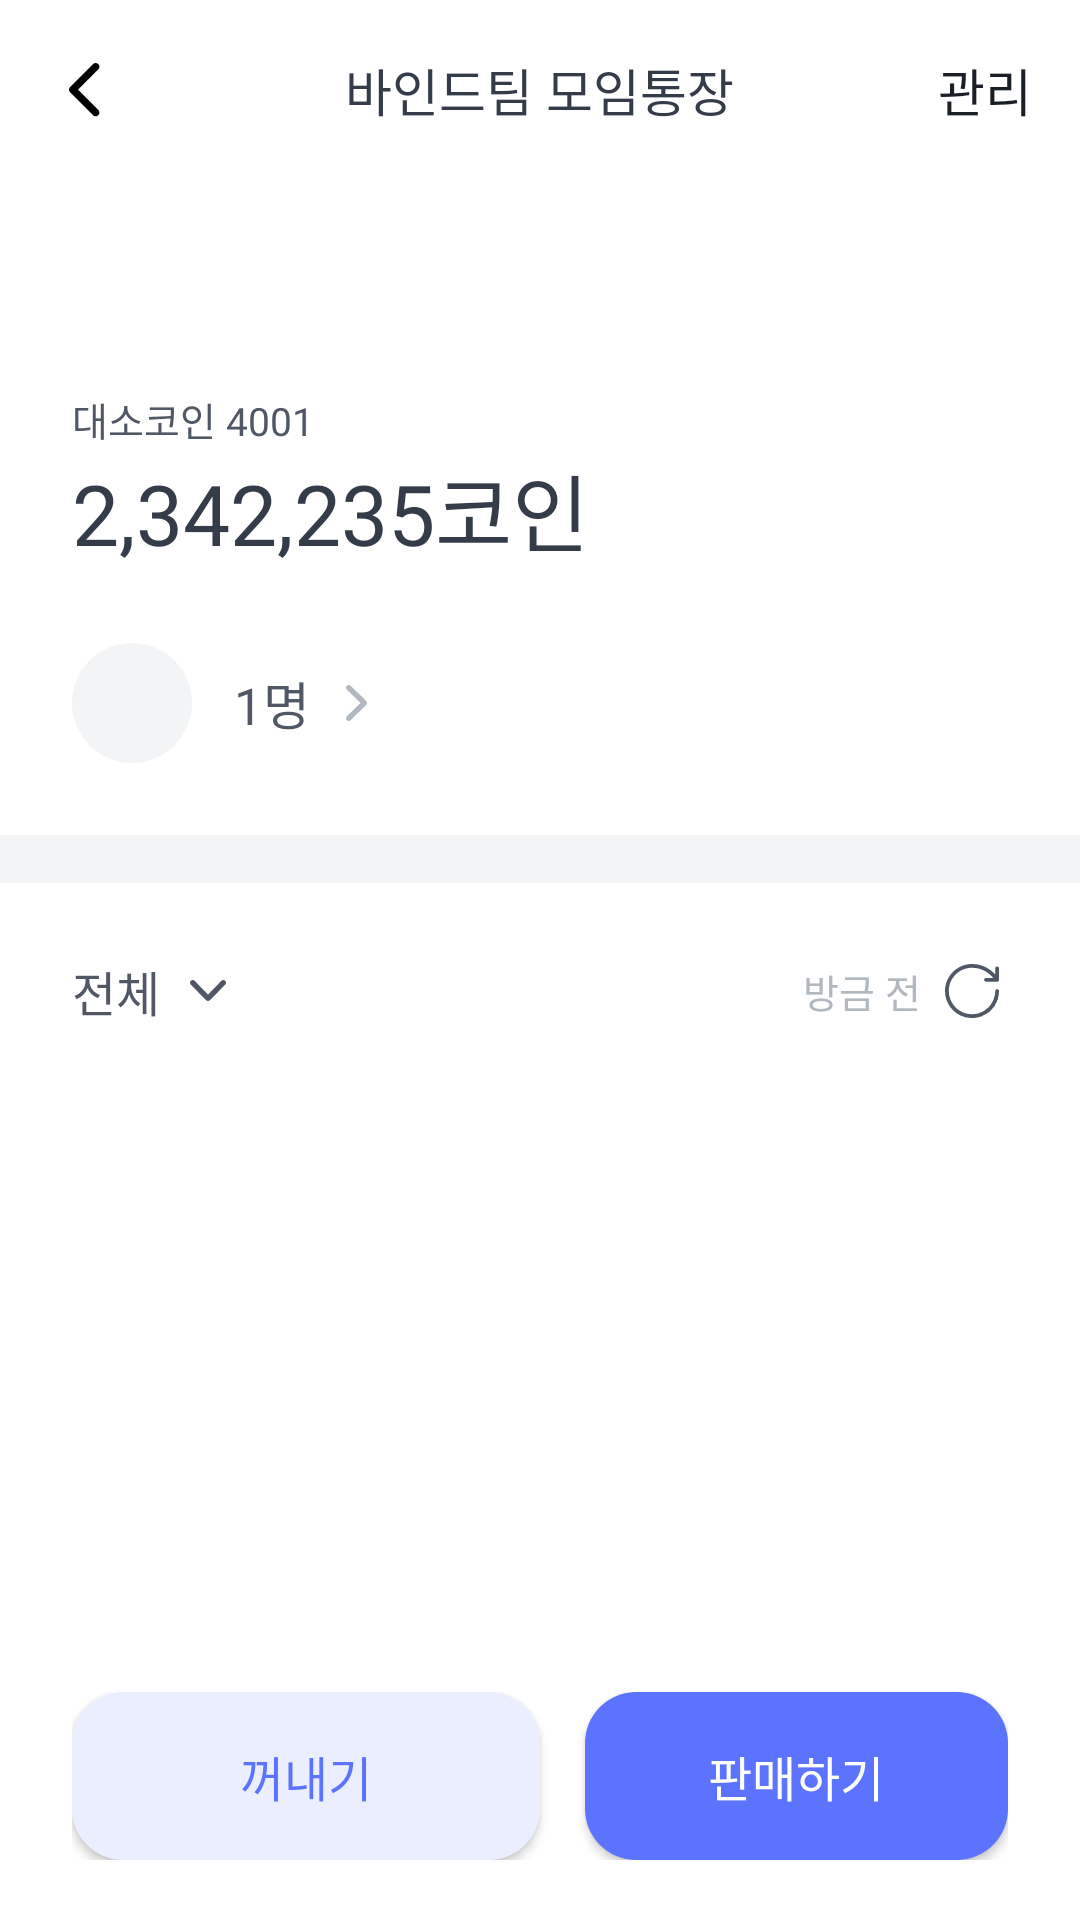

Named icons in this screenshot (1080 x 1920) and their centers, [x,y]:
arrow back: [84,90]
reload: [972,991]
